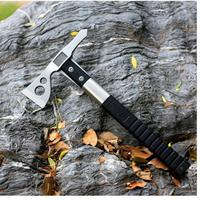knife: (20, 29, 188, 175)
